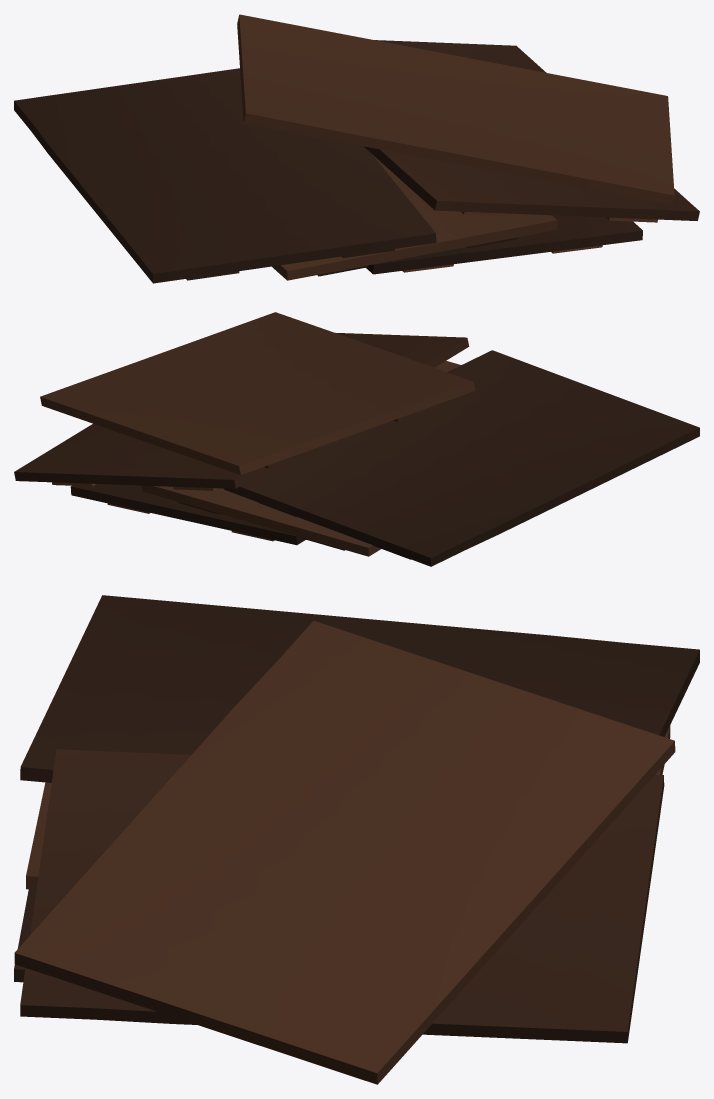
File: Multiple Small Messy Dark Crate Lids.fbx
The picture shows the model from 3 angles, top to bottom: view 1: azimuth 30°, elevation 25°; view 2: azimuth 150°, elevation 25°; view 3: azimuth 270°, elevation 25°; orthographic projection. The views are drawn at different scales.
Visible parts, largest first — view 1: Small Multiple Messy Dark Crate Lids; view 2: Small Multiple Messy Dark Crate Lids; view 3: Small Multiple Messy Dark Crate Lids.
Part boxes in pixels (x1=…): Small Multiple Messy Dark Crate Lids: x1=14, y1=14, x2=699, y2=283; Small Multiple Messy Dark Crate Lids: x1=14, y1=312, x2=699, y2=566; Small Multiple Messy Dark Crate Lids: x1=14, y1=595, x2=699, y2=1084.
Bounding box in the file's own units: 64.12 × 229 × 330.
1 material, 1 textured.
